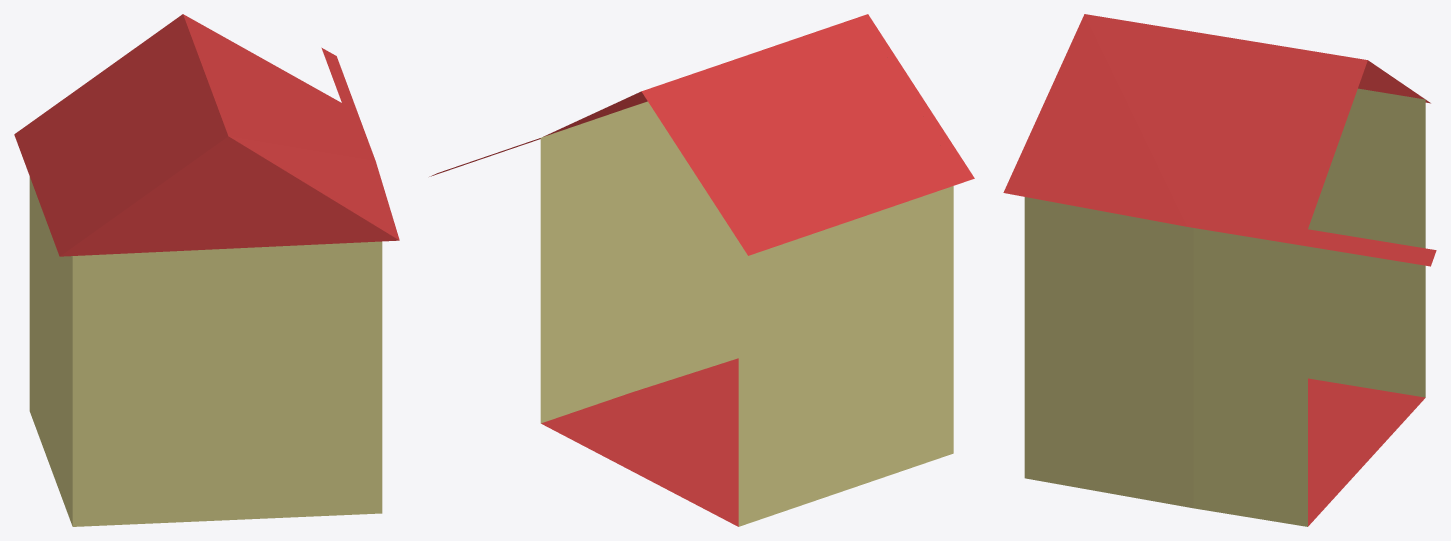
The picture shows the model from 3 angles, left to right: view 1: azimuth 30°, elevation 25°; view 2: azimuth 150°, elevation 25°; view 3: azimuth 270°, elevation 25°; orthographic projection. The views are drawn at different scales.
Size of the model in its own units: 15.33 by 13.42 by 13.7.
